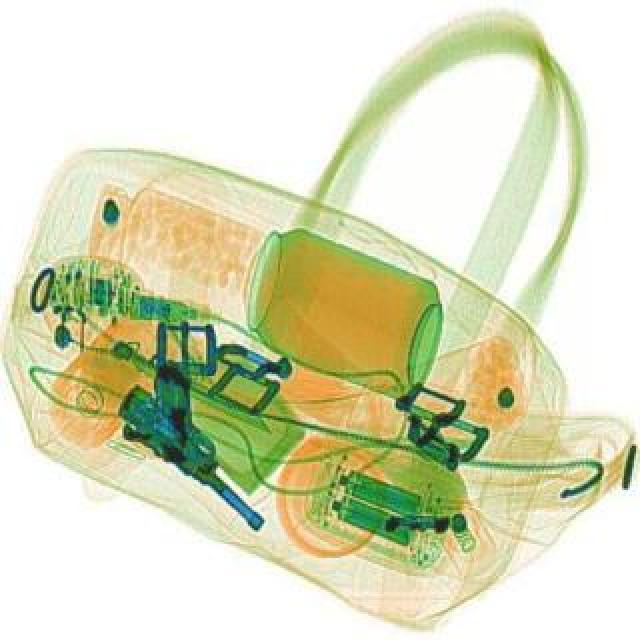gun: (104, 354, 304, 538)
